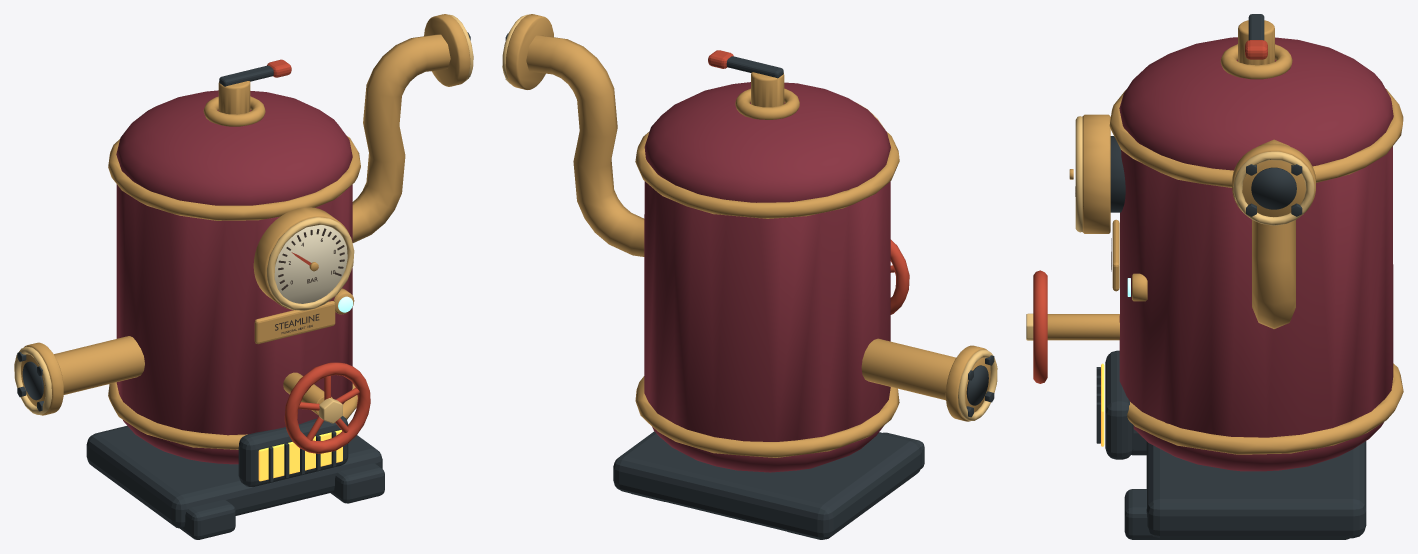
The model's file is steamline-boiler.glb.
3 views of the same model, side by side, from view 1: azimuth 30°, elevation 25°; view 2: azimuth 150°, elevation 25°; view 3: azimuth 270°, elevation 25° (orthographic). The views are drawn at different scales.
Parts seen in each view (by area): view 1: Boiler static body, Valve handwheel; view 2: Boiler static body, Valve handwheel; view 3: Boiler static body, Valve handwheel.
Boxes of the visible parts, x1,y1,x2,y2 form: Boiler static body: [14, 14, 473, 539]; Valve handwheel: [284, 362, 370, 453]; Boiler static body: [502, 14, 997, 539]; Valve handwheel: [890, 239, 909, 314]; Boiler static body: [1047, 14, 1403, 539]; Valve handwheel: [1026, 270, 1047, 383].
Size of the model in its own units: 3.34 by 2.95 by 2.15.
